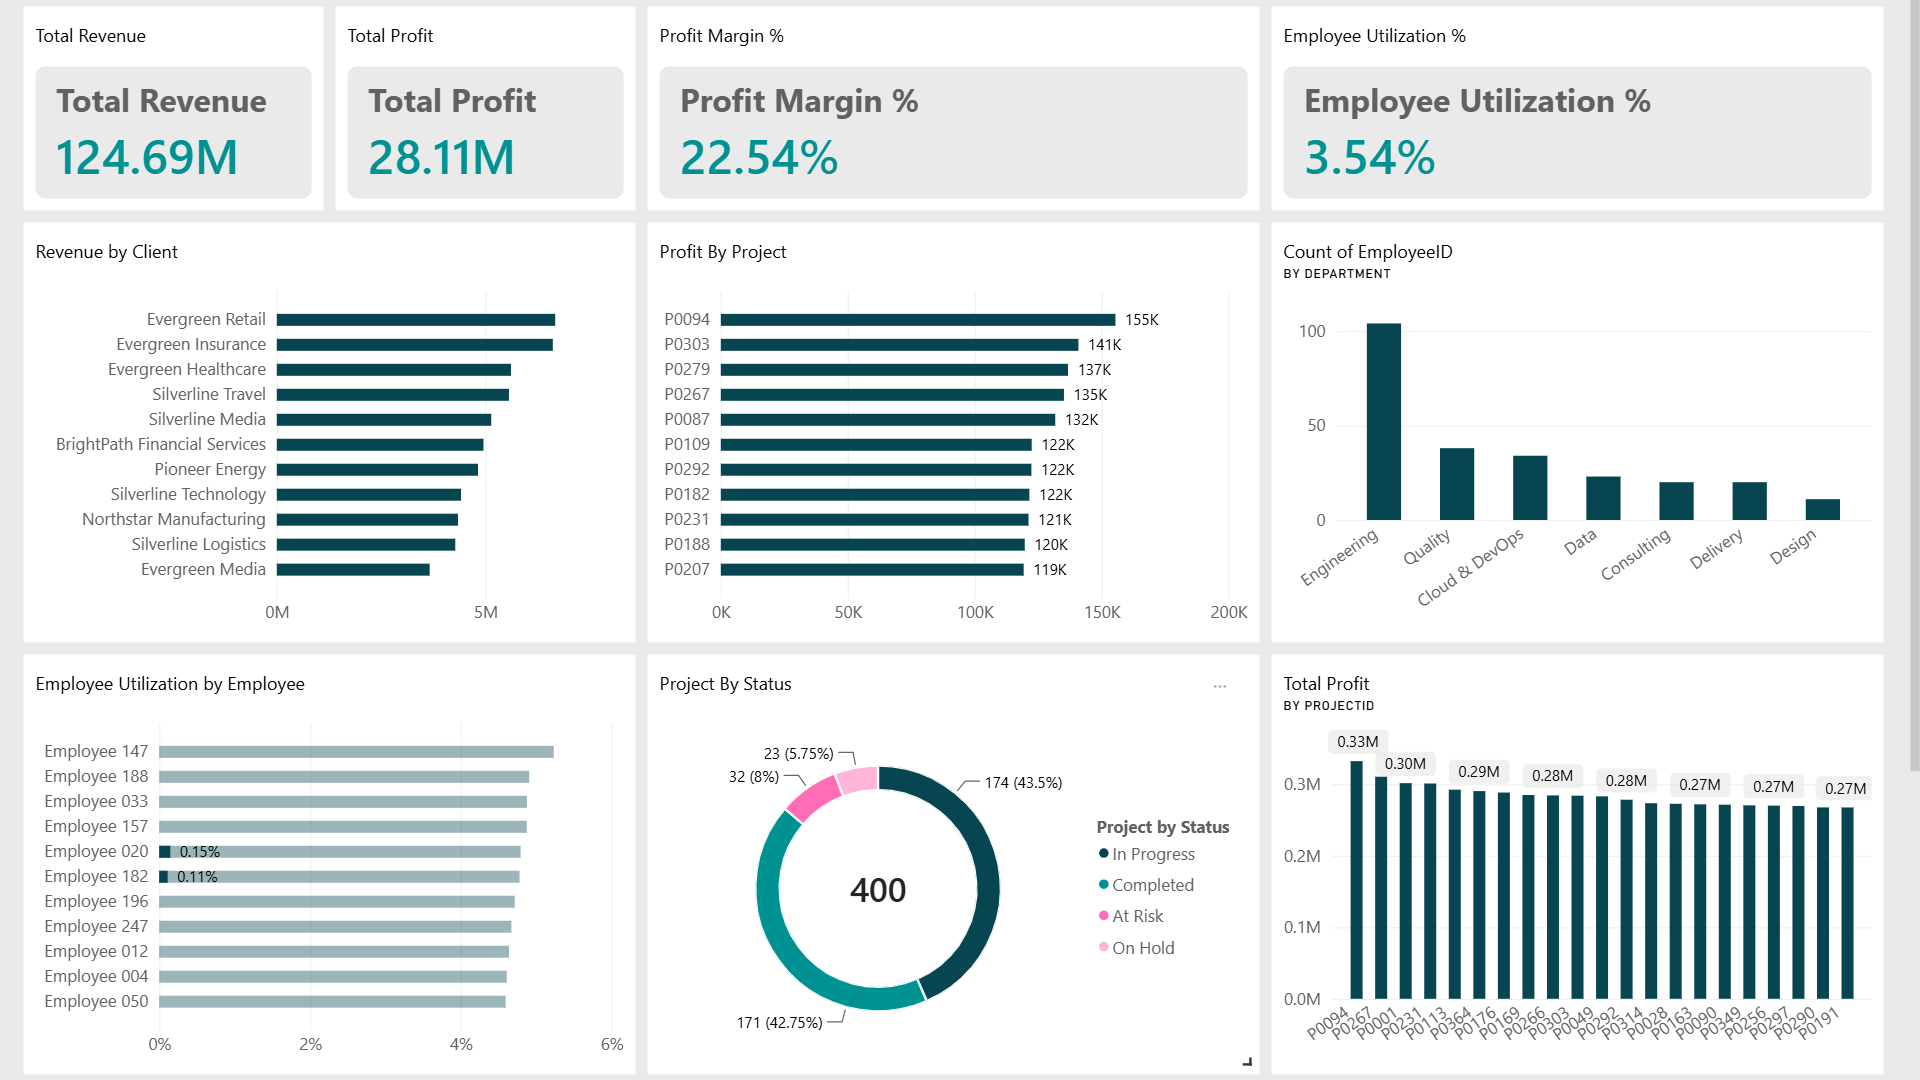

This screenshot's page, from the dashboard's own definition file:
{"tool":"powerbi","page":{"name":"Project OverView and Financial performance","canvas":[1920,1080],"ordinal":0},"visuals":[{"type":"cardVisual","fields":{"Data":["Capacity.Total Revenue"]},"box":[0,87.8,475.8,163.5],"z":0},{"type":"cardVisual","fields":{"Data":["Capacity.Total Profit"]},"box":[458.7,87.8,458.7,163.5],"z":1000},{"type":"cardVisual","fields":{"Data":["Capacity.Profit Margin %"]},"box":[917.4,87.8,478.2,163.5],"z":2000},{"type":"cardVisual","fields":{"Data":["Capacity.Employee Utilization %"]},"box":[1376.1,87.8,544.1,163.5],"z":3000},{"type":"textbox","title":"IT Project Profitability & Resource Utilization Dashboard","box":[0,0,990.6,87.8],"z":4000},{"type":"clusteredBarChart","title":"Revenue by Client","fields":{"Category":["Clients.ClientName"],"Y":["Capacity.Total Revenue"]},"box":[0,251.3,990.6,578.2],"z":5000},{"type":"tableEx","title":"Project Performance","fields":{"Values":["Projects.ProjectID","Sum(Projects.BudgetCost)","Projects.PlannedEndDate.Variation.Date Hierarchy.Year","Projects.PlannedEndDate.Variation.Date Hierarchy.Quarter","Projects.PlannedEndDate.Variation.Date Hierarchy.Month","Projects.PlannedEndDate.Variation.Date Hierarchy.Day","Projects.StartDate.Variation.Date Hierarchy.Year","Projects.StartDate.Variation.Date Hierarchy.Quarter","Projects.StartDate.Variation.Date Hierarchy.Month","Projects.StartDate.Variation.Date Hierarchy.Day","Capacity.Total Revenue","Capacity.Total Labor Cost"]},"box":[0,812.5,1097.9,268.4],"z":7000},{"type":"donutChart","title":"Project By Status","fields":{"Category":["Projects.ProjectStatus"],"Y":["CountNonNull(Projects.ProjectID)"]},"box":[990.6,258.6,929.6,570.9],"z":7002},{"type":"listSlicer","fields":{"Values":["Clients.ClientName"]},"box":[1456.6,812.5,463.6,268.4],"z":7003},{"type":"listSlicer","fields":{"Values":["DateTable.Date.Variation.Date Hierarchy.Year","DateTable.Date.Variation.Date Hierarchy.Quarter","DateTable.Date.Variation.Date Hierarchy.Month","DateTable.Date.Variation.Date Hierarchy.Day"]},"box":[1097.9,812.5,358.7,268.4],"z":7004}]}

Visuals, with their boxes in screenshot pixels (x1, y1, x2, y2), scaled from the page's 1920x1080 canvas onto the 1920x1080 screenshot:
cardVisual - Capacity.Total Revenue: region(0, 88, 476, 251)
cardVisual - Capacity.Total Profit: region(459, 88, 917, 251)
cardVisual - Capacity.Profit Margin %: region(917, 88, 1396, 251)
cardVisual - Capacity.Employee Utilization %: region(1376, 88, 1919, 251)
"IT Project Profitability & Resource Utilization Dashboard" textbox: region(0, 0, 991, 88)
"Revenue by Client" clusteredBarChart: region(0, 251, 991, 830)
"Project Performance" tableEx: region(0, 812, 1098, 1079)
"Project By Status" donutChart: region(991, 259, 1919, 830)
listSlicer - Clients.ClientName: region(1457, 812, 1919, 1079)
listSlicer - DateTable.Date.Variation.Date Hierarchy.Year x DateTable.Date.Variation.Date Hierarchy.Quarter: region(1098, 812, 1457, 1079)
